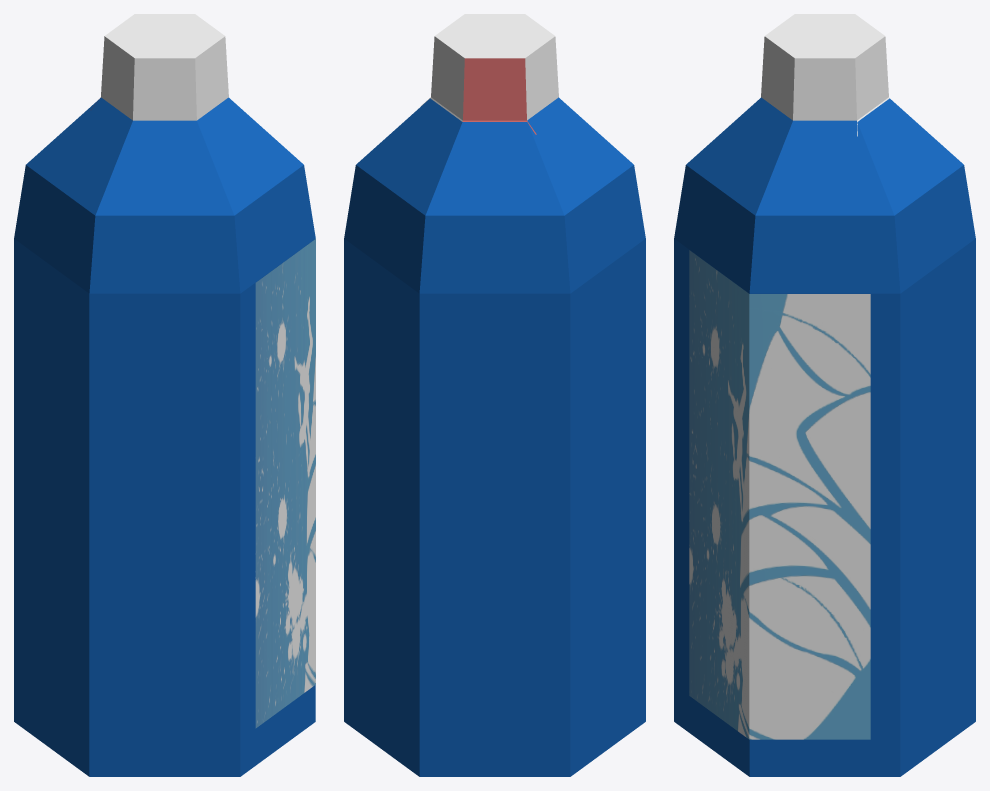
The model's file is 矿泉水.fbx.
3 renders of one model, left to right at view 1: azimuth 30°, elevation 25°; view 2: azimuth 150°, elevation 25°; view 3: azimuth 270°, elevation 25°, orthographic.
Parts seen in each view (by area): view 1: low_poly_interior.124; view 2: low_poly_interior.124; view 3: low_poly_interior.124.
Part boxes in pixels (bbox=[...]): low_poly_interior.124: bbox=[14, 14, 315, 776]; low_poly_interior.124: bbox=[344, 14, 645, 776]; low_poly_interior.124: bbox=[674, 14, 975, 776].
Bounding box in the file's own units: 106 × 306 × 122.
2 materials, 2 textured.
